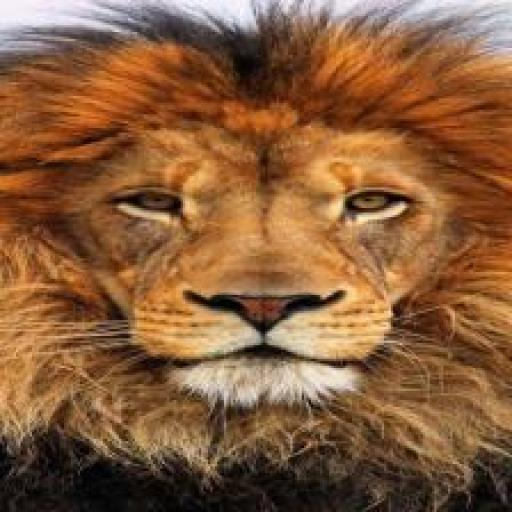lion: (0, 0, 509, 511)
